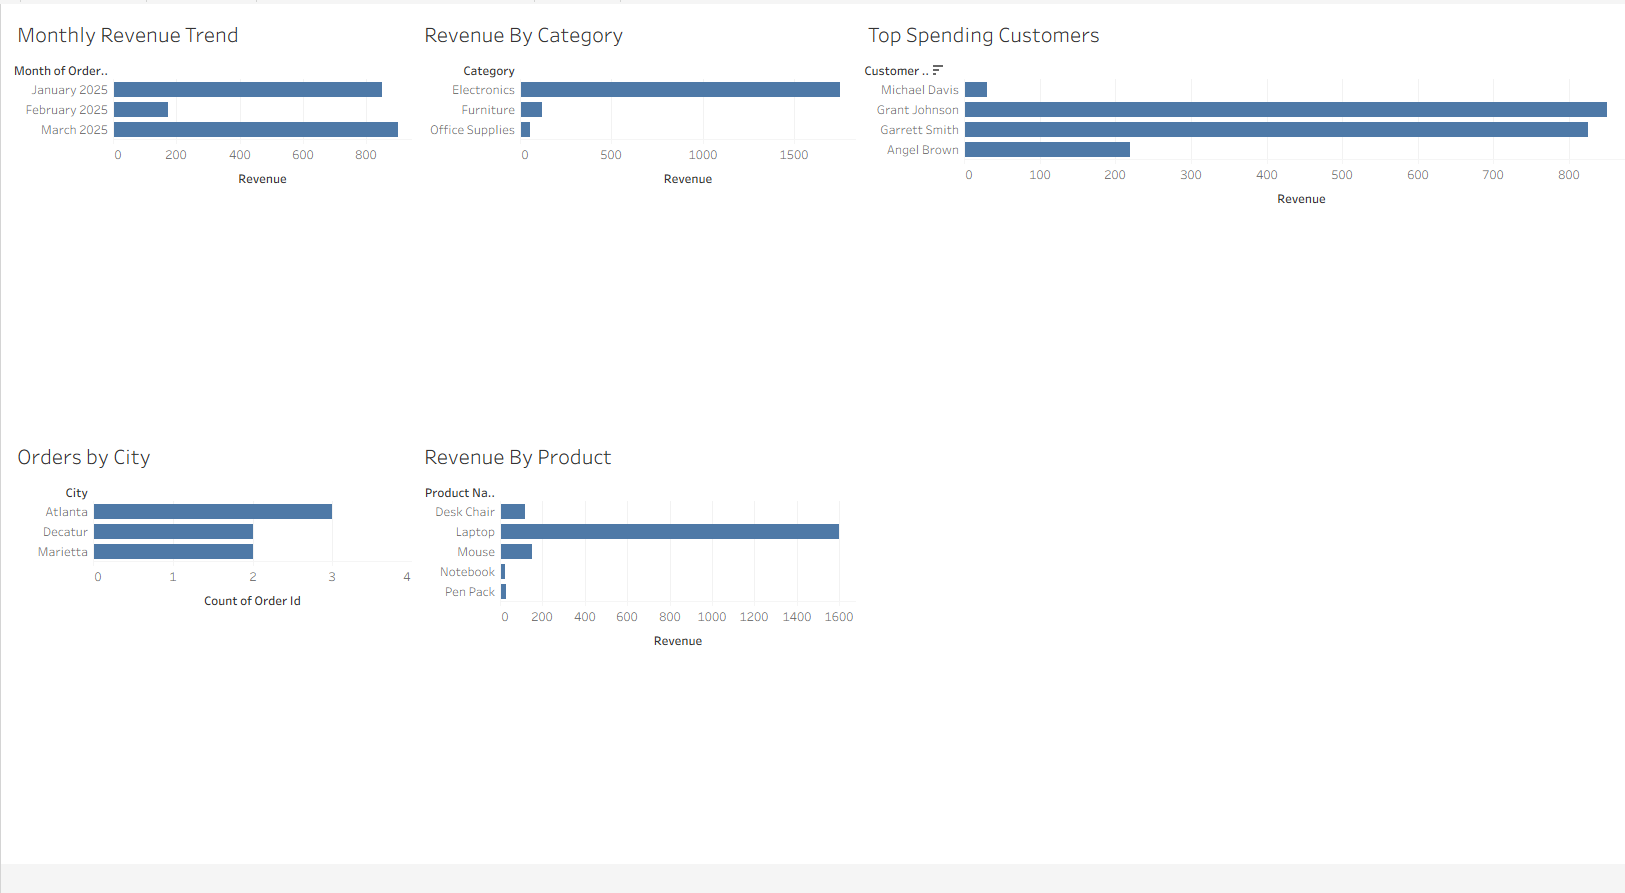

What the dashboard file says about the page in this screenshot:
{"tool":"tableau","page":{"name":"Dashboard 1","canvas":[1000,1000],"units":"permille","ordinal":0},"visuals":[{"type":"worksheet","title":"Monthly Revenue Trend","mark":"Bar","rows":["order_date"],"cols":["revenue"],"box":[4.9,9.3,246.5,490.7]},{"type":"worksheet","title":"Revenue By Category","mark":"Automatic","rows":["category"],"cols":["revenue"],"box":[251.3,9.3,269.3,490.7]},{"type":"worksheet","title":"Top Spending Customers","mark":"Automatic","rows":["Calculation_0233385066835969"],"cols":["revenue"],"box":[520.7,9.3,474.5,981.4]},{"type":"worksheet","title":"Orders by City","mark":"Automatic","rows":["city"],"cols":["order_id"],"box":[4.9,500,246.5,490.7]},{"type":"worksheet","title":"Revenue By Product","mark":"Automatic","rows":["product_name"],"cols":["revenue"],"box":[251.3,500,269.3,490.7]}]}

Visuals, with their boxes on the dashboard's canvas, which has no fixed pixel size, in thousandths of its width and height (x1, y1, x2, y2). These are canvas units, not pixel positions in the 1625x893 screenshot, which may show the page scaled, cropped or inside an application window:
"Monthly Revenue Trend" worksheet (Bar marks): (5, 9, 251, 500)
"Revenue By Category" worksheet: (251, 9, 521, 500)
"Top Spending Customers" worksheet: (521, 9, 995, 991)
"Orders by City" worksheet: (5, 500, 251, 991)
"Revenue By Product" worksheet: (251, 500, 521, 991)
